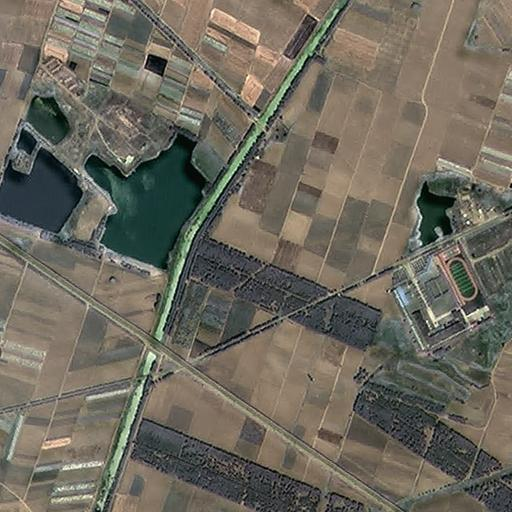school: (389, 238, 494, 353)
